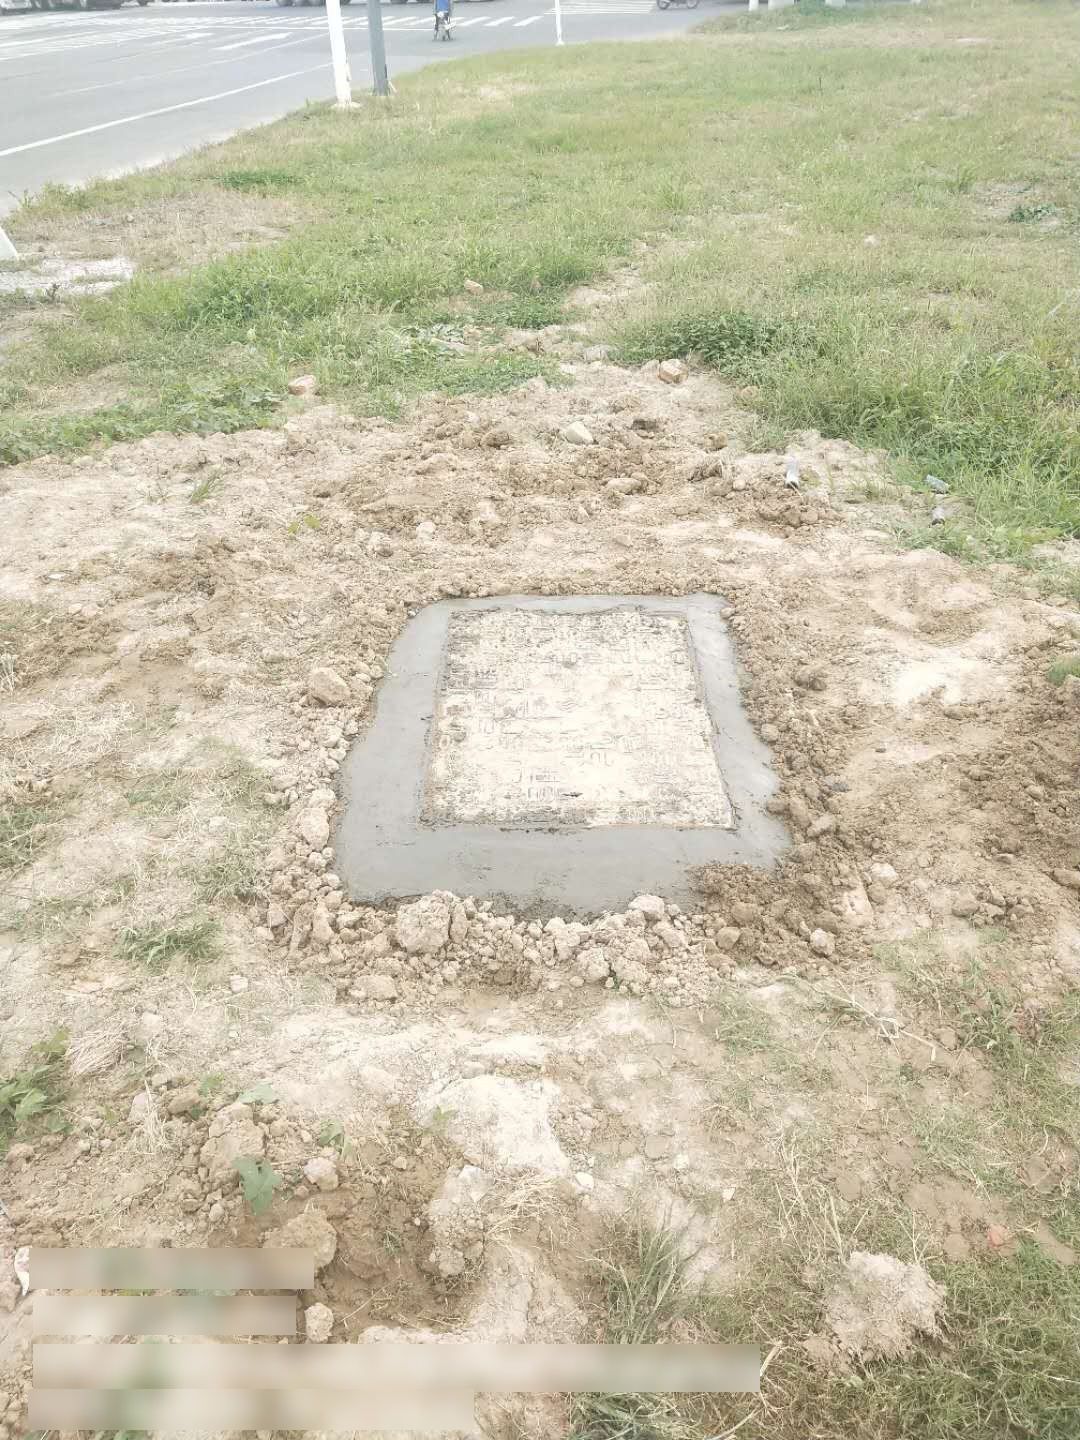well: (404, 596, 763, 835)
